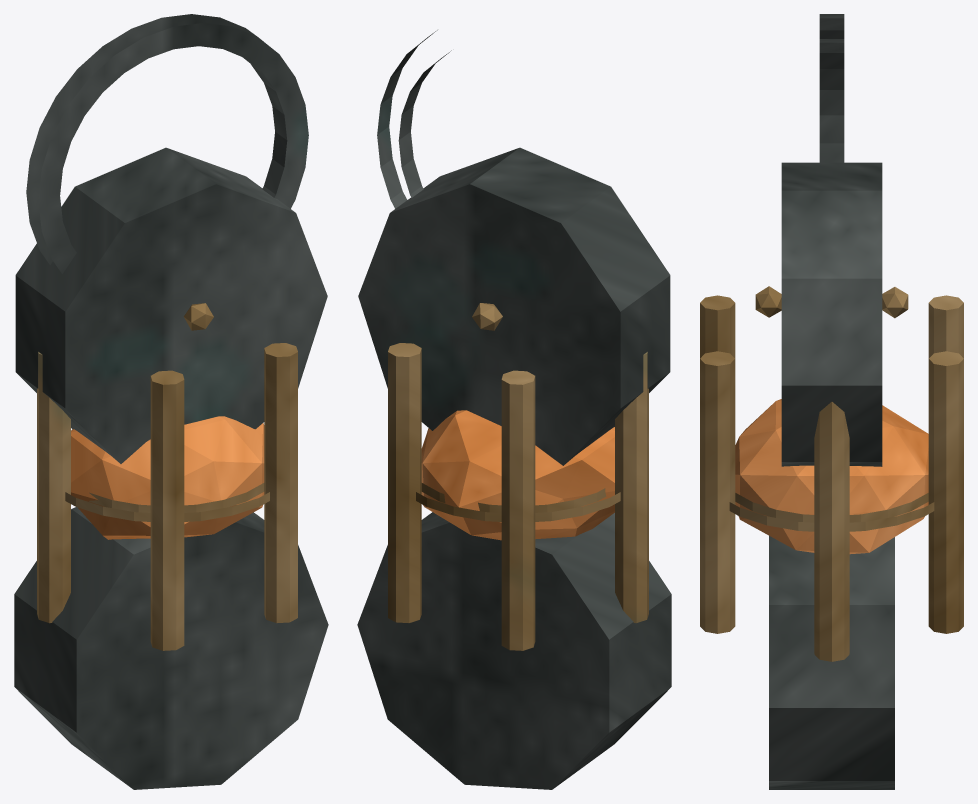
Rendered from 0908_lantern_08.glb.
The picture shows the model from 3 angles, left to right: view 1: azimuth 30°, elevation 25°; view 2: azimuth 150°, elevation 25°; view 3: azimuth 270°, elevation 25°; orthographic projection.
Visible parts, largest first — view 1: iron, brass, amber; view 2: iron, brass, amber; view 3: iron, brass, amber.
Part boxes in pixels (left/top/right/bottom): iron: left=14, top=14, right=328, bottom=789; brass: left=37, top=303, right=297, bottom=650; amber: left=71, top=416, right=264, bottom=539; iron: left=357, top=30, right=671, bottom=789; brass: left=388, top=303, right=648, bottom=650; amber: left=421, top=410, right=614, bottom=540; iron: left=769, top=14, right=894, bottom=789; brass: left=700, top=286, right=963, bottom=661; amber: left=735, top=399, right=928, bottom=554.
Bounding box in the file's own units: 0.5 × 1.32 × 0.4197.
Materials: 3 (3 with a texture image).
